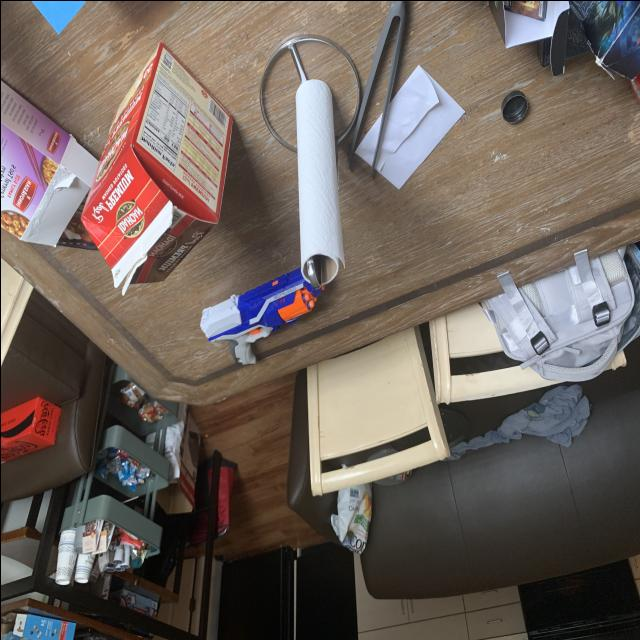nerf-maverik: (194, 256, 332, 386)
